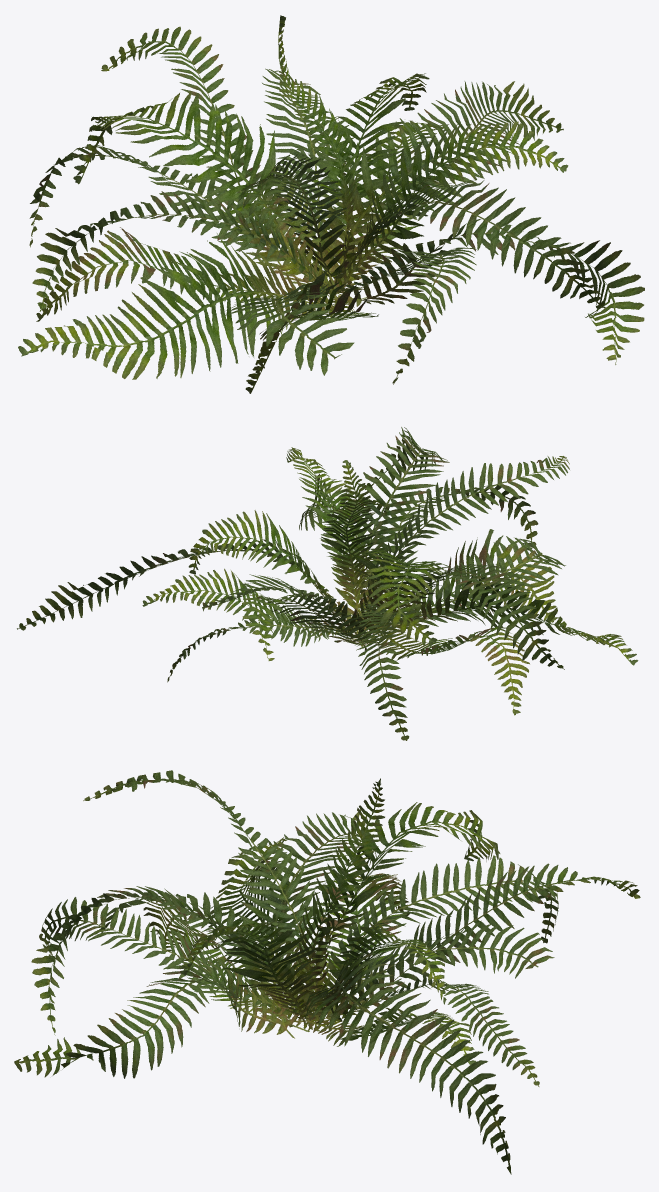
The model's file is samambaia_1.glb.
3 renders of one model, top to bottom at view 1: azimuth 30°, elevation 25°; view 2: azimuth 150°, elevation 25°; view 3: azimuth 270°, elevation 25°, orthographic. The views are drawn at different scales.
Parts seen in each view (by area): view 1: samambaia; view 2: samambaia; view 3: samambaia.
Part boxes in pixels (left/top/right/bottom): samambaia: left=18, top=15, right=644, bottom=393; samambaia: left=17, top=427, right=638, bottom=740; samambaia: left=14, top=770, right=640, bottom=1174.
Size of the model in its own units: 0.8743 by 0.349 by 0.7581.
Materials: 1 (1 with a texture image).
